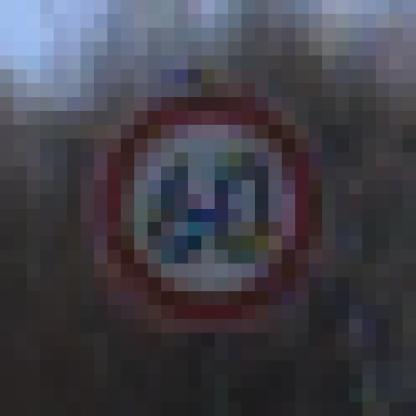Speed Limit 60: (101, 97, 318, 318)
